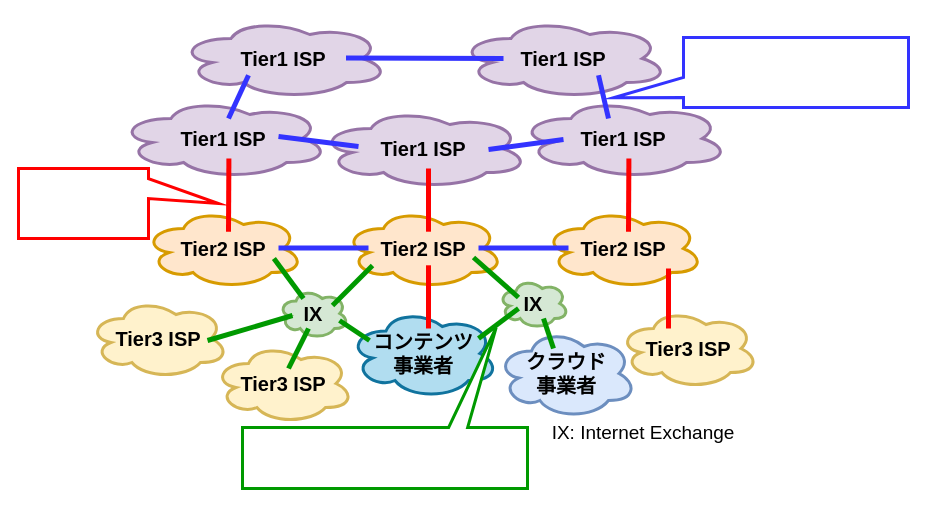
Image size: 927x507. Some labels were removed from this diagram. The box of each missing label's shape, as (x1, y1, x2, y2) in pixels:
トランジット 従量課金: (16, 166, 220, 240)
パブリックピアリング 通信費無料（IX接続費が必要）: (240, 326, 528, 490)
プライベートピアリング 通信費無料: (612, 36, 910, 108)
